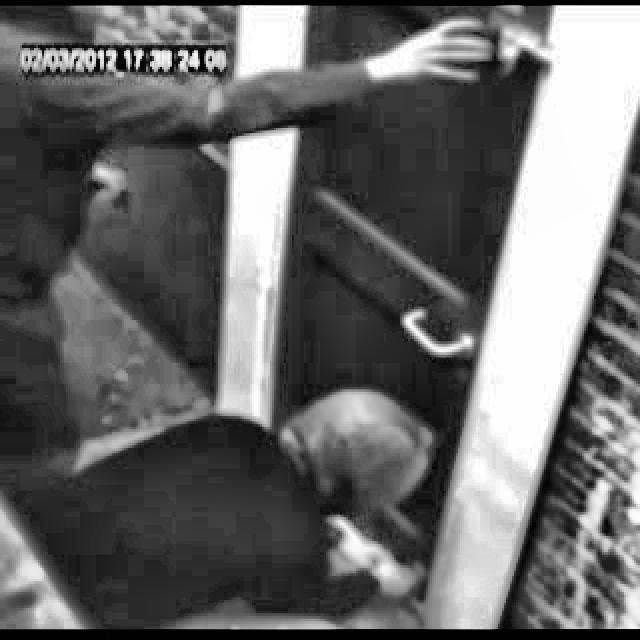burglary: (69, 7, 552, 373), (200, 372, 446, 628)
